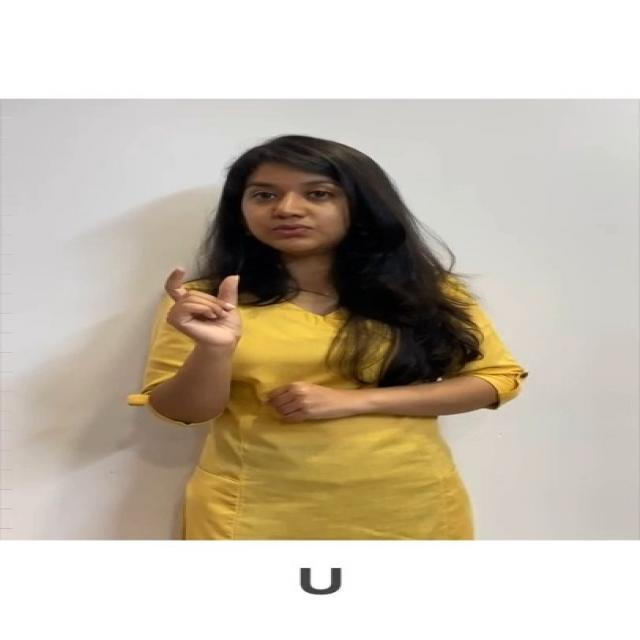U: (143, 263, 263, 360)
